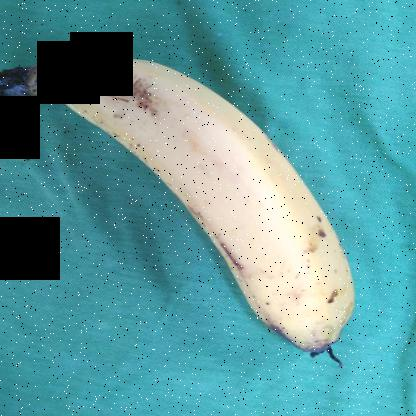freshripe: (45, 47, 368, 350)
